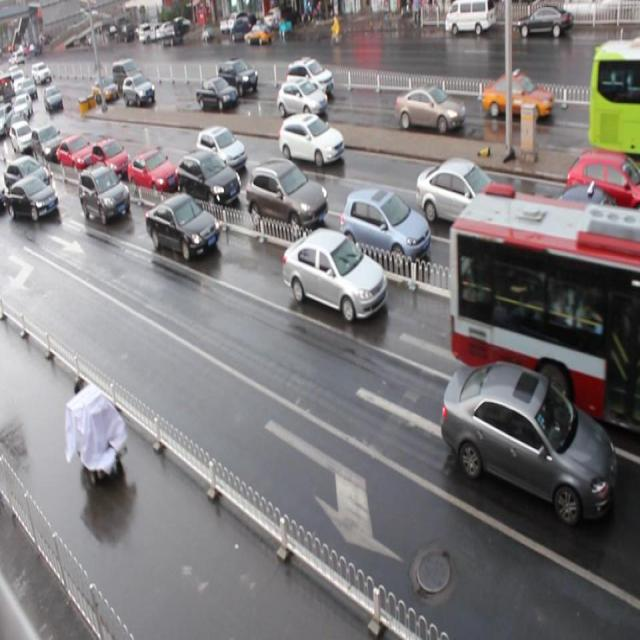car: (438, 358, 615, 527), (282, 227, 386, 324), (530, 184, 640, 272), (414, 156, 514, 234), (340, 186, 429, 270), (246, 158, 327, 233), (564, 146, 640, 222), (145, 194, 218, 261), (482, 71, 553, 125), (396, 84, 464, 138), (175, 149, 240, 204), (78, 162, 131, 225), (278, 115, 343, 166), (0, 175, 60, 223), (127, 145, 177, 193), (195, 124, 246, 170), (0, 156, 52, 200), (277, 80, 326, 118), (287, 58, 334, 97), (54, 130, 92, 176), (194, 77, 238, 113), (218, 58, 258, 96), (90, 138, 128, 176), (31, 125, 63, 164), (122, 78, 157, 107)
truck: (460, 193, 602, 324)
van: (450, 184, 640, 443), (587, 39, 640, 158)
